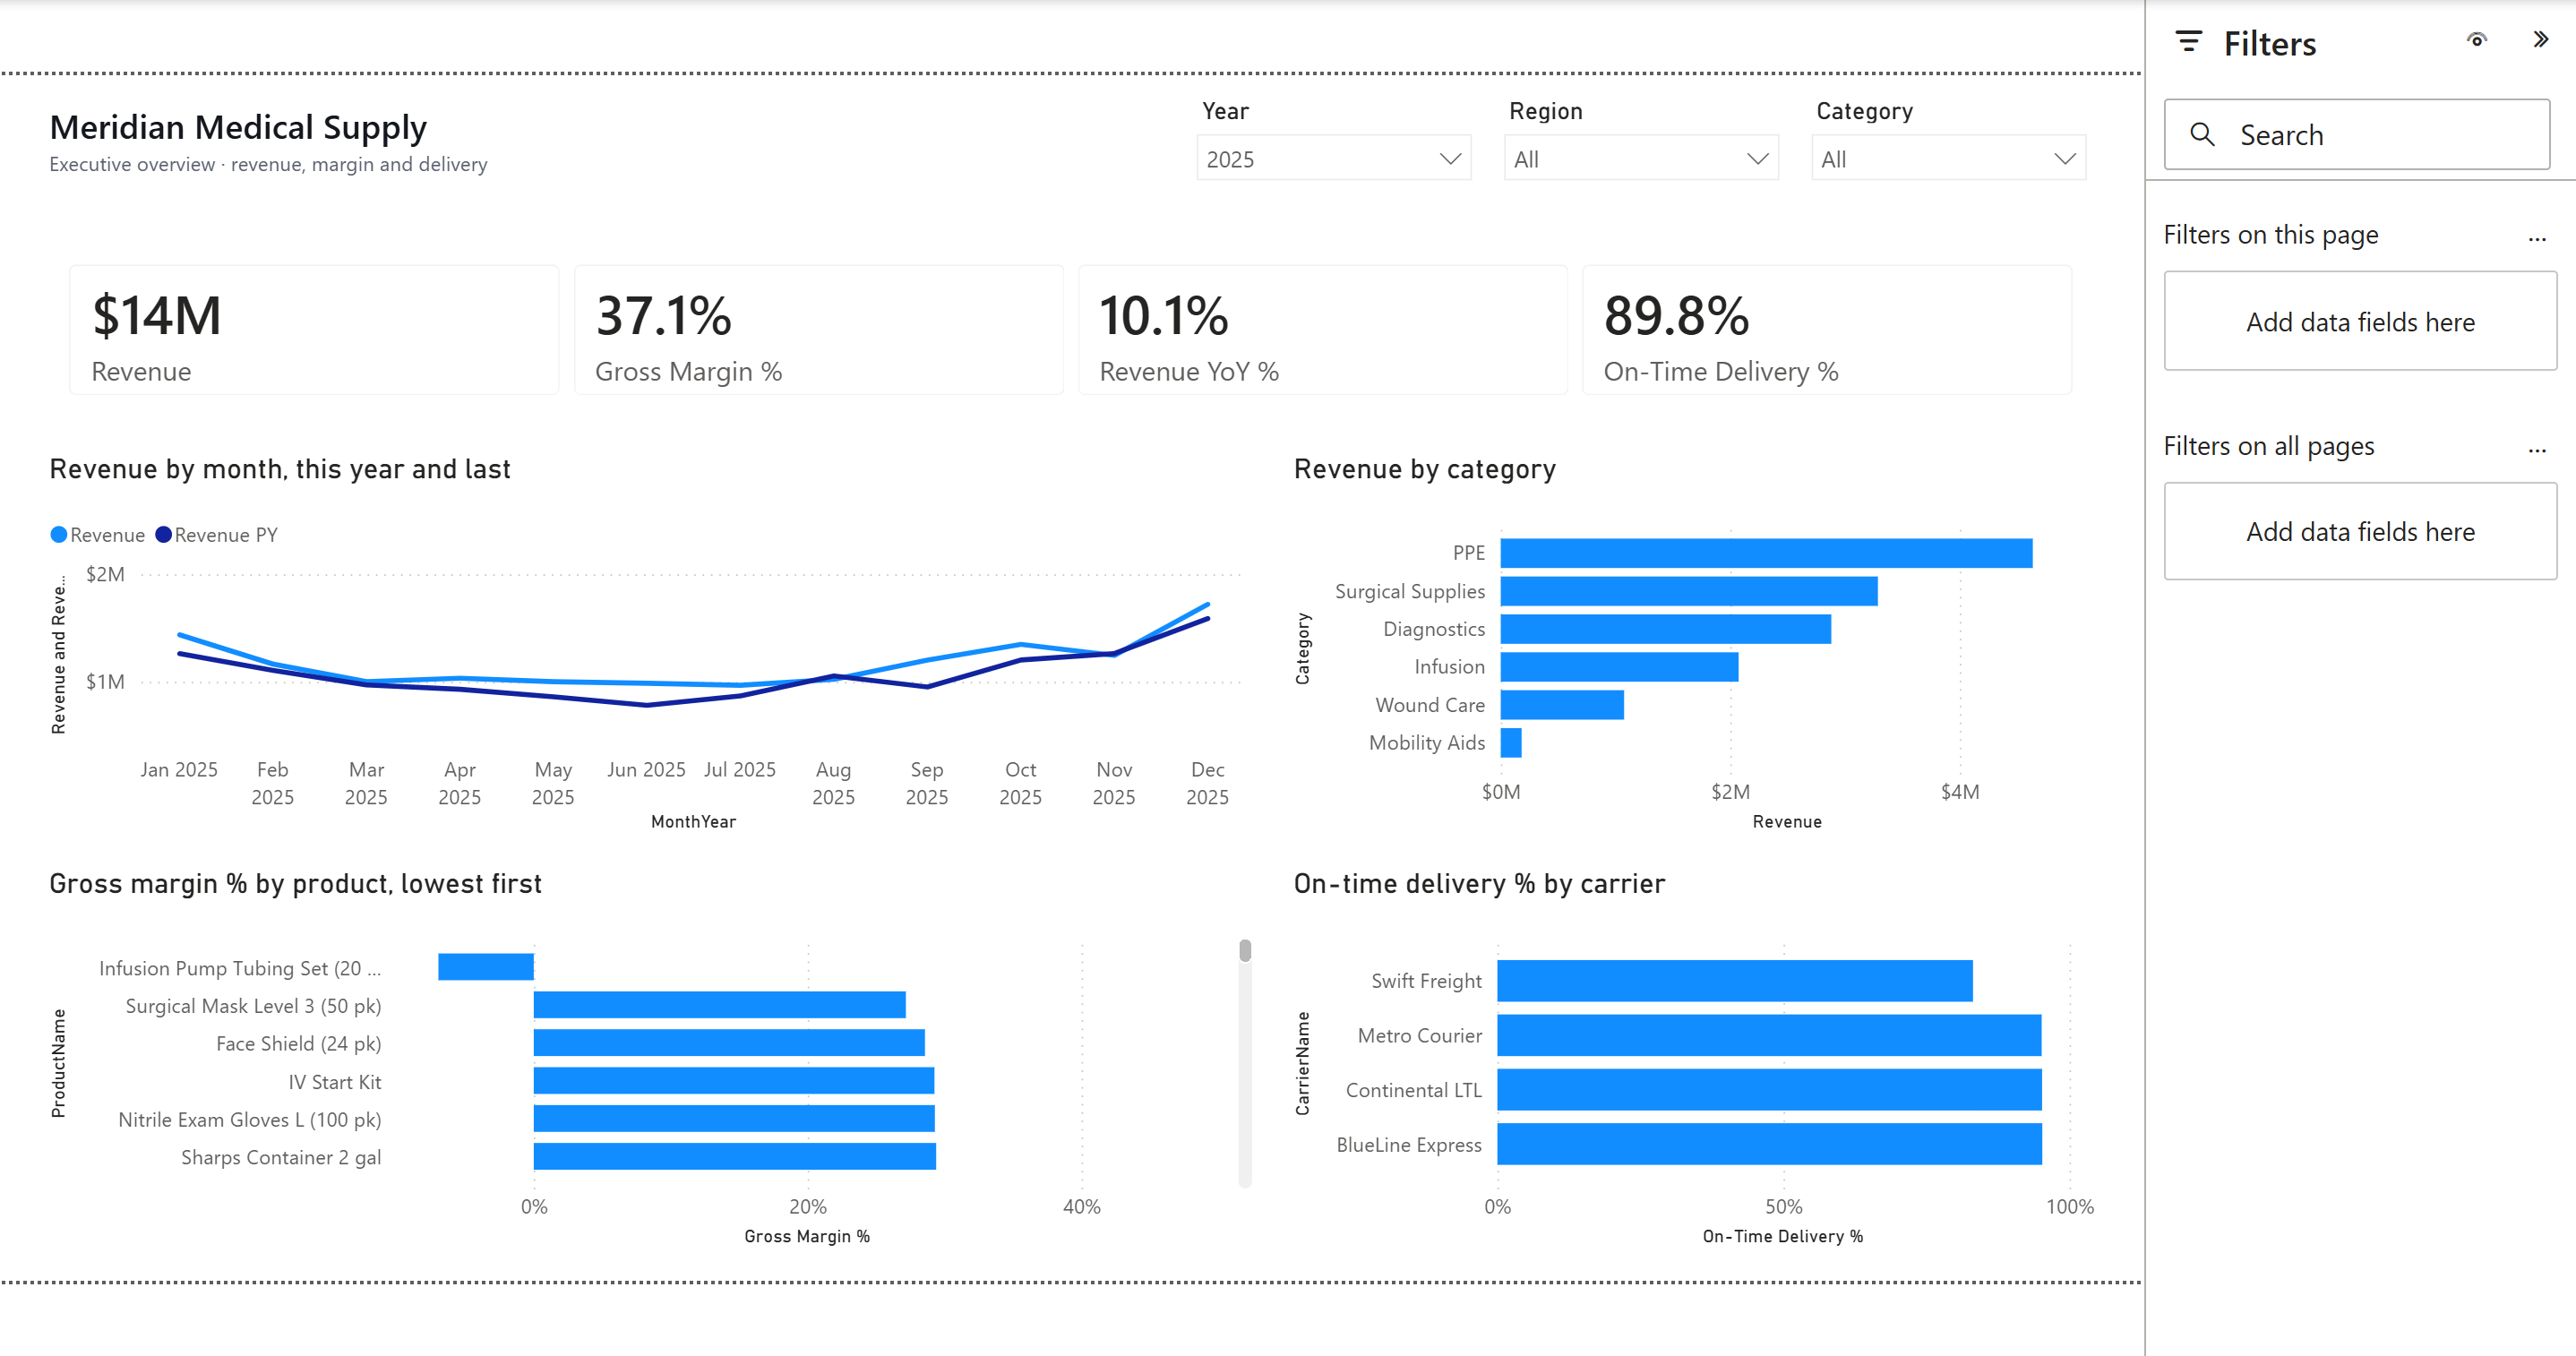

The dashboard page shown, as its layout file describes it:
{"tool":"powerbi","page":{"name":"Executive Overview","canvas":[1280,720],"ordinal":0},"visuals":[{"type":"textbox","box":[24,12,640,64],"z":0},{"type":"slicer","fields":{"Values":["Dim_Date.Year"]},"box":[704,8,184,80],"z":1000},{"type":"slicer","fields":{"Values":["Dim_Warehouse.Region"]},"box":[888,8,184,80],"z":2000},{"type":"slicer","fields":{"Values":["Dim_Product.Category"]},"box":[1072,8,184,80],"z":3000},{"type":"cardVisual","fields":{"Data":["_Measures.Revenue","_Measures.Gross Margin %","_Measures.Revenue YoY %","_Measures.On-Time Delivery %"]},"box":[24,96,1232,112],"z":4000},{"type":"lineChart","title":"Revenue by month, this year and last","fields":{"Category":["Dim_Date.MonthYear"],"Y":["_Measures.Revenue","_Measures.Revenue PY"]},"box":[24,224,728,232],"z":5000},{"type":"clusteredBarChart","title":"Revenue by category","fields":{"Category":["Dim_Product.Category"],"Y":["_Measures.Revenue"]},"box":[768,224,488,232],"z":6000},{"type":"clusteredBarChart","title":"Gross margin % by product, lowest first","fields":{"Category":["Dim_Product.ProductName"],"Y":["_Measures.Gross Margin %"]},"box":[24,472,728,232],"z":7000},{"type":"clusteredBarChart","title":"On-time delivery % by carrier","fields":{"Category":["Dim_Carrier.CarrierName"],"Y":["_Measures.On-Time Delivery %"]},"box":[768,472,488,232],"z":8000}]}

Visuals, with their boxes on the page's 1280x720 design canvas (x1, y1, x2, y2). These are canvas units, not pixel positions in the 2576x1356 screenshot, which may show the page scaled, cropped or inside an application window:
textbox: locate(24, 12, 664, 76)
slicer - Dim_Date.Year: locate(704, 8, 888, 88)
slicer - Dim_Warehouse.Region: locate(888, 8, 1072, 88)
slicer - Dim_Product.Category: locate(1072, 8, 1256, 88)
cardVisual - _Measures.Revenue x _Measures.Gross Margin %: locate(24, 96, 1256, 208)
"Revenue by month, this year and last" lineChart: locate(24, 224, 752, 456)
"Revenue by category" clusteredBarChart: locate(768, 224, 1256, 456)
"Gross margin % by product, lowest first" clusteredBarChart: locate(24, 472, 752, 704)
"On-time delivery % by carrier" clusteredBarChart: locate(768, 472, 1256, 704)
